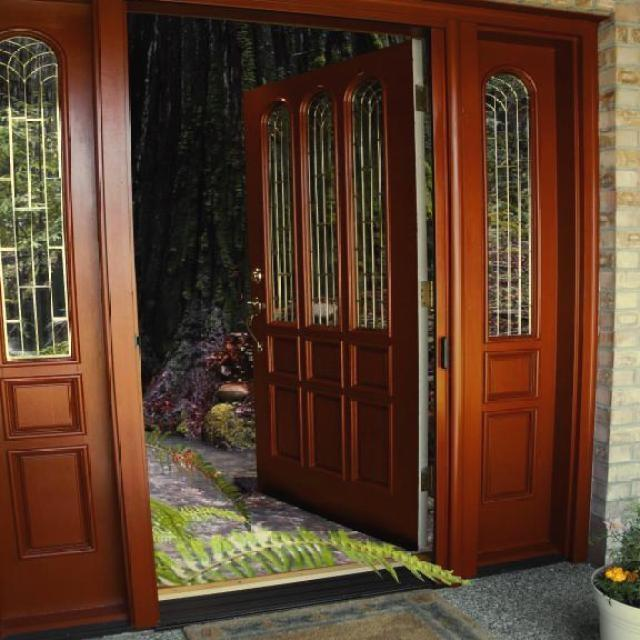door: (242, 37, 422, 552)
